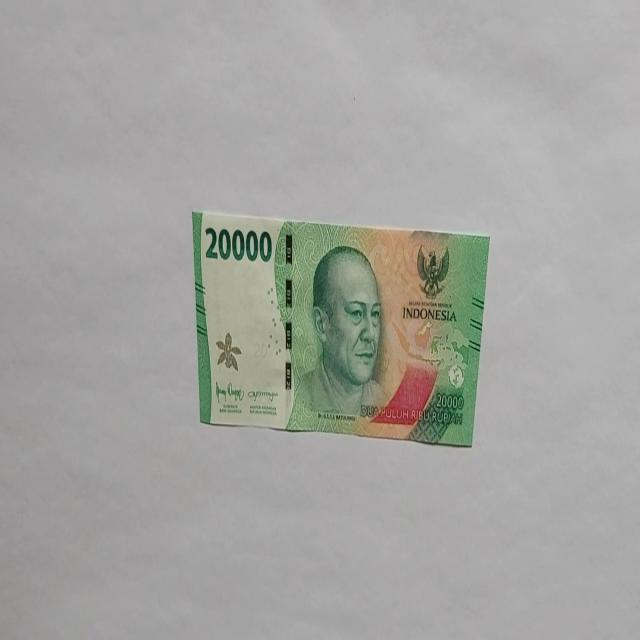dua puluh ribu rupiah: (191, 208, 491, 446), (286, 243, 392, 431)
